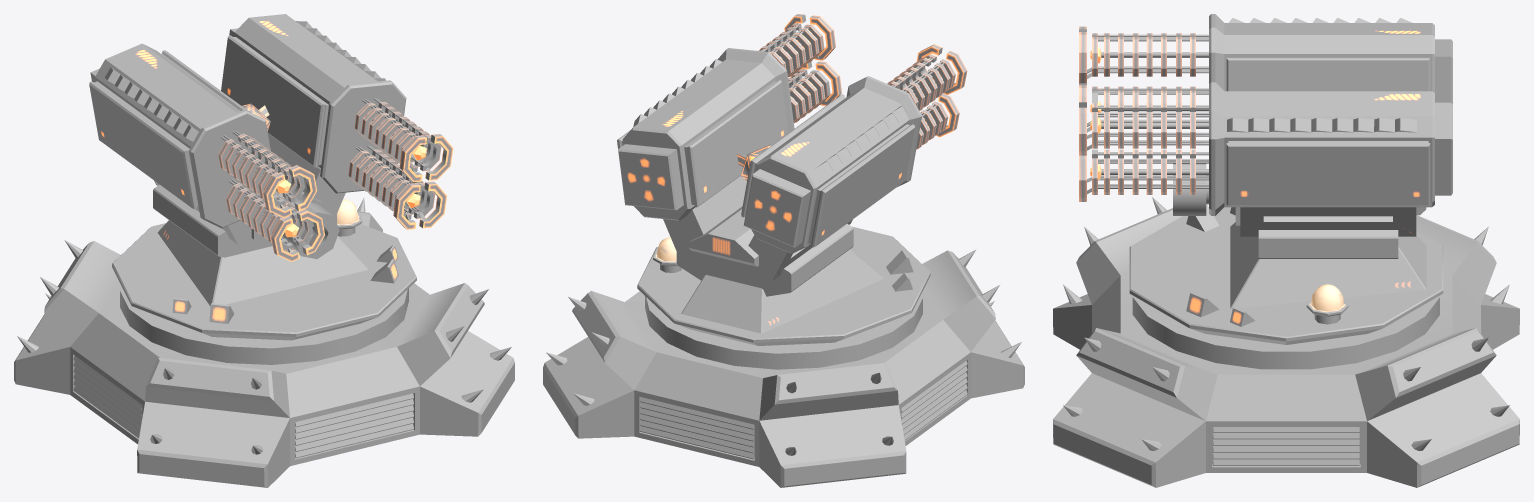
File: turret.gltf
3 views of the same model, side by side, from view 1: azimuth 30°, elevation 25°; view 2: azimuth 150°, elevation 25°; view 3: azimuth 270°, elevation 25° (orthographic). The views are drawn at different scales.
Parts seen in each view (by area): view 1: Base1, polySurface67, polySurface66, socleTourelle3, socleTourelle4, StructureBasseTourelle1, FrontVent1, StructureMoyenneTourelle1, StructureHauteTourelle1, RightVent2, RightVent1, PetitCanon1 (+10 smaller); view 2: Base1, polySurface66, polySurface67, socleTourelle3, StructureBasseTourelle1, socleTourelle4, StructureHauteTourelle1, Backvent1, StructureMoyenneTourelle1, StructureCristal1, RightVent1, RightVent2 (+3 smaller); view 3: Base1, polySurface67, polySurface66, socleTourelle3, StructureBasseTourelle1, socleTourelle4, StructureHauteTourelle1, StructureMoyenneTourelle1, RightVent1, RightVent2, Lampe1, PetitCanon1 (+4 smaller).
Part boxes in pixels (bbox=[...]): Base1: bbox=[14, 211, 514, 487]; polySurface67: bbox=[221, 14, 406, 193]; polySurface66: bbox=[89, 43, 271, 228]; socleTourelle3: bbox=[112, 223, 416, 340]; socleTourelle4: bbox=[120, 286, 408, 364]; StructureBasseTourelle1: bbox=[157, 220, 368, 306]; FrontVent1: bbox=[295, 393, 413, 458]; StructureMoyenneTourelle1: bbox=[153, 184, 336, 257]; StructureHauteTourelle1: bbox=[154, 133, 345, 244]; RightVent2: bbox=[73, 356, 108, 415]; RightVent1: bbox=[107, 381, 142, 438]; PetitCanon1: bbox=[282, 202, 339, 258]; Base1: bbox=[543, 250, 1024, 487]; polySurface66: bbox=[741, 76, 921, 253]; polySurface67: bbox=[617, 48, 794, 220]; socleTourelle3: bbox=[637, 226, 930, 345]; StructureBasseTourelle1: bbox=[681, 249, 884, 333]; socleTourelle4: bbox=[645, 293, 922, 369]; StructureHauteTourelle1: bbox=[663, 176, 852, 281]; Backvent1: bbox=[640, 397, 754, 459]; StructureMoyenneTourelle1: bbox=[676, 224, 853, 296]; StructureCristal1: bbox=[688, 206, 758, 266]; RightVent1: bbox=[933, 360, 967, 418]; RightVent2: bbox=[901, 385, 934, 440]; Base1: bbox=[1053, 208, 1519, 487]; polySurface67: bbox=[1209, 82, 1452, 215]; polySurface66: bbox=[1209, 14, 1452, 104]; socleTourelle3: bbox=[1129, 207, 1443, 344]; StructureBasseTourelle1: bbox=[1230, 222, 1426, 308]; socleTourelle4: bbox=[1132, 295, 1439, 369]; StructureHauteTourelle1: bbox=[1240, 207, 1416, 236]; StructureMoyenneTourelle1: bbox=[1258, 230, 1398, 258]; RightVent1: bbox=[1213, 427, 1286, 465]; RightVent2: bbox=[1286, 427, 1359, 465]; Lampe1: bbox=[1306, 284, 1348, 324]; PetitCanon1: bbox=[1173, 163, 1206, 215].
Bounding box in the file's own units: 2 × 1.58 × 2.
